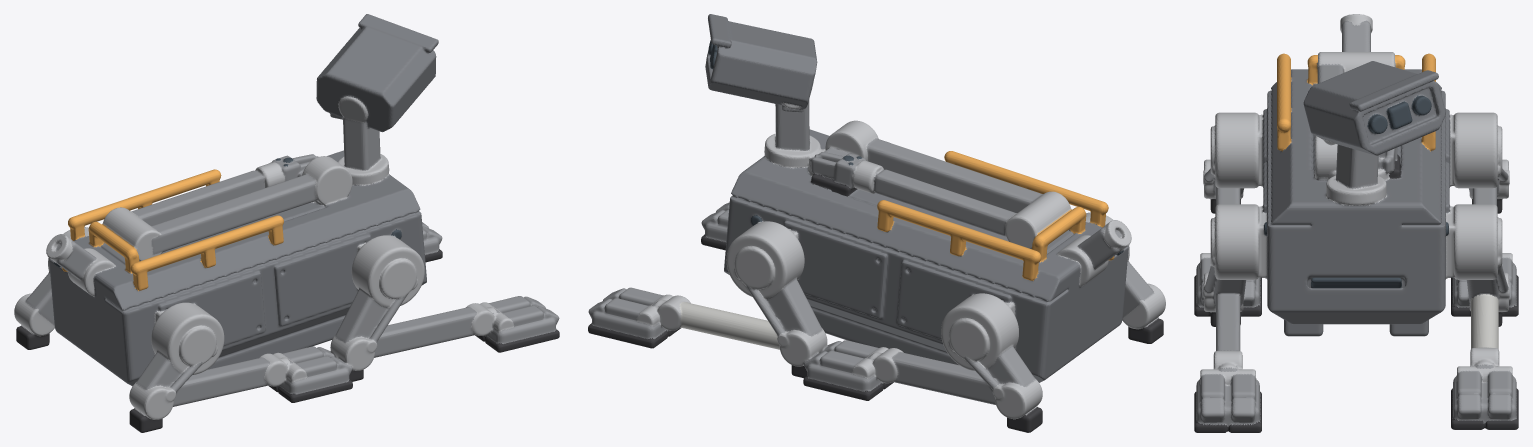
The model's file is Walter_R3_1-12.glb.
The picture shows the model from 3 angles, left to right: view 1: azimuth 30°, elevation 25°; view 2: azimuth 150°, elevation 25°; view 3: azimuth 270°, elevation 25°; orthographic projection. The views are drawn at different scales.
Visible parts, largest first — view 1: Walter_R3; view 2: Walter_R3; view 3: Walter_R3.
Part boxes in pixels (x1,y1,x2,y2): Walter_R3: [14, 14, 559, 432]; Walter_R3: [588, 14, 1165, 432]; Walter_R3: [1194, 14, 1518, 432].
Size of the model in its own units: 0.1006 by 0.0583 by 0.0551.
